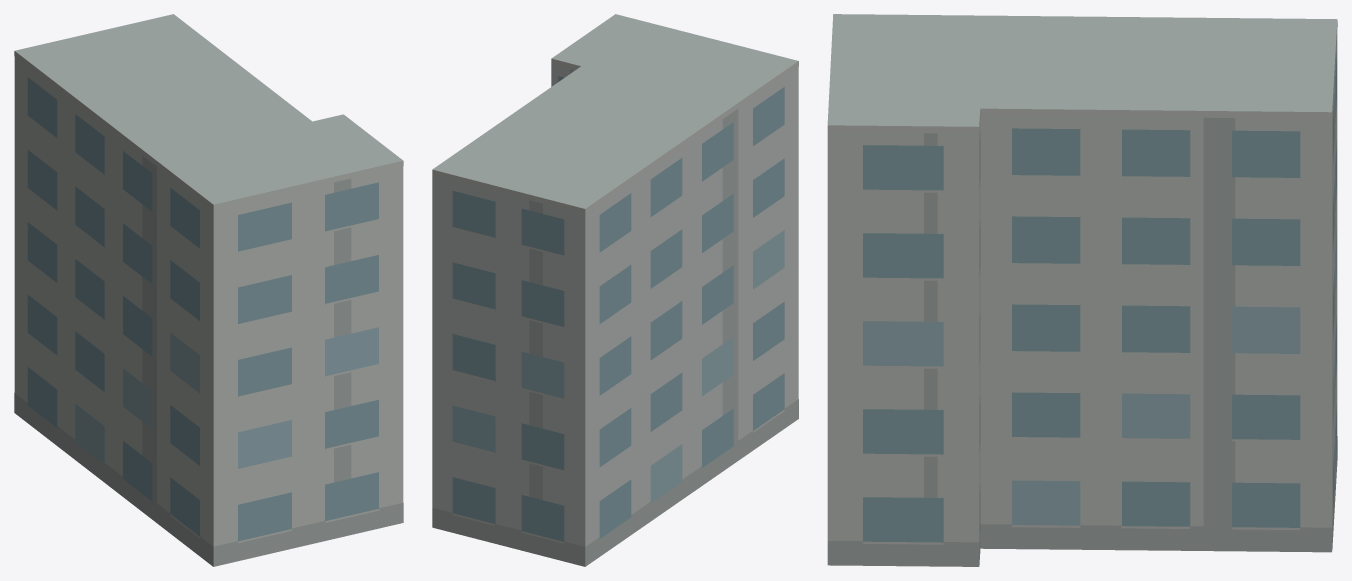
The model's file is survey-upis-32822165.glb.
3 renders of one model, left to right at view 1: azimuth 30°, elevation 25°; view 2: azimuth 150°, elevation 25°; view 3: azimuth 270°, elevation 25°, orthographic. The views are drawn at different scales.
Visible parts, largest first — view 1: survey-upis-32822165.tmp; view 2: survey-upis-32822165.tmp; view 3: survey-upis-32822165.tmp.
Boxes of the visible parts, left/top/right/bottom form: survey-upis-32822165.tmp: left=14, top=14, right=403, bottom=566; survey-upis-32822165.tmp: left=432, top=14, right=798, bottom=566; survey-upis-32822165.tmp: left=827, top=14, right=1337, bottom=566.
Size of the model in its own units: 8.59 by 15.61 by 16.4.
